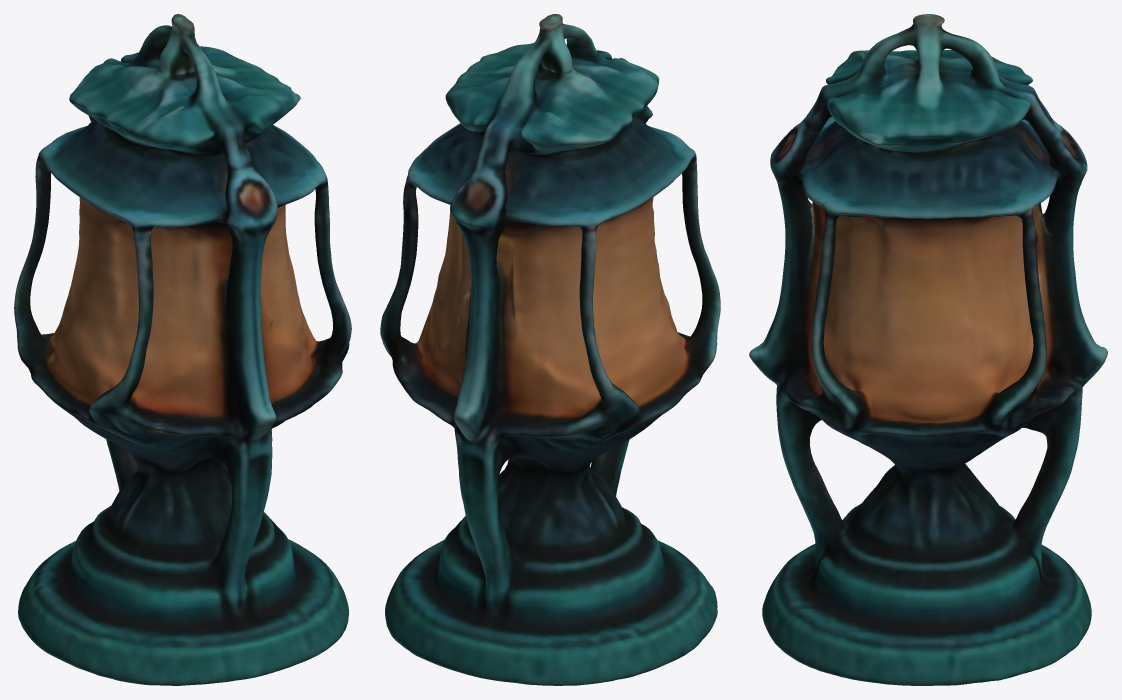
Rendered from 78375214f0e5_mystical_lantern__3.fbx.
3 renders of one model, left to right at view 1: azimuth 30°, elevation 25°; view 2: azimuth 150°, elevation 25°; view 3: azimuth 270°, elevation 25°, orthographic.
Parts seen in each view (by area): view 1: high_poly; view 2: high_poly; view 3: high_poly.
Boxes of the visible parts, x1,y1,x2,y2 form: high_poly: [14, 14, 351, 685]; high_poly: [380, 14, 720, 685]; high_poly: [749, 14, 1107, 685].
Size of the model in its own units: 49.58 by 100 by 53.91.
